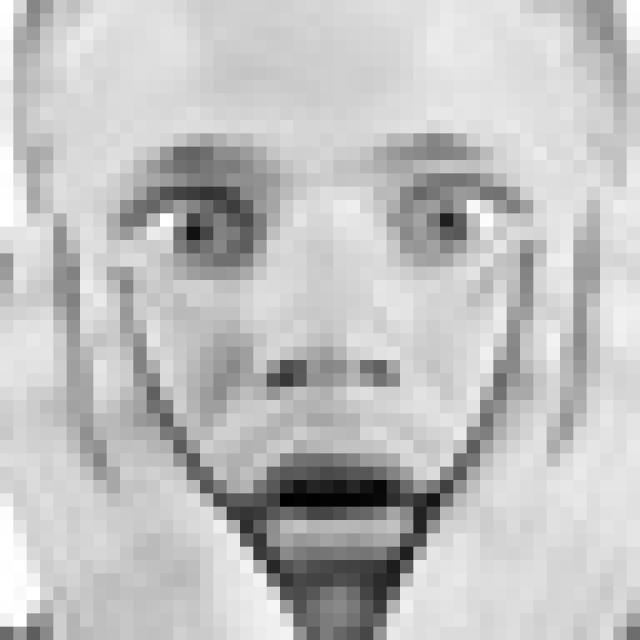surprise: (109, 115, 542, 578)
